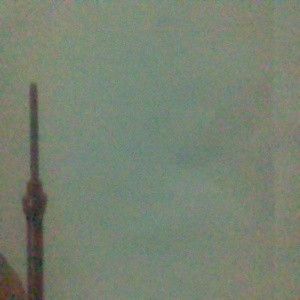obeng: (20, 81, 48, 300)
